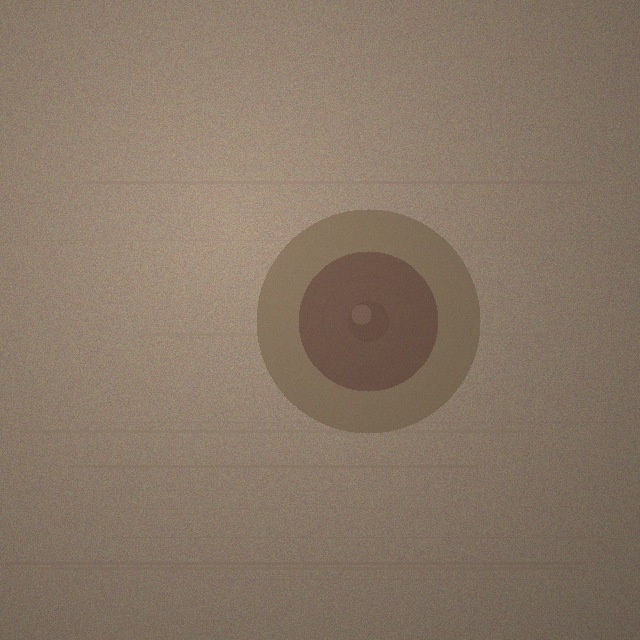good: (256, 209, 480, 433)
